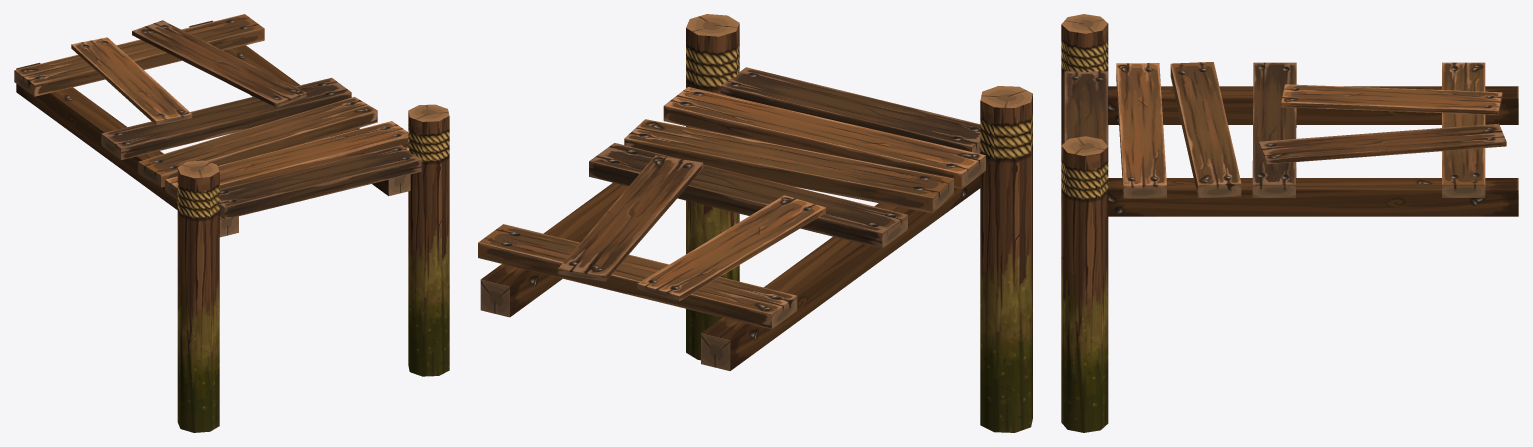
Rendered from pier_middle_B.fbx.
3 renders of one model, left to right at view 1: azimuth 30°, elevation 25°; view 2: azimuth 150°, elevation 25°; view 3: azimuth 270°, elevation 25°, orthographic. The views are drawn at different scales.
Visible parts, largest first — view 1: pier_middle_B; view 2: pier_middle_B; view 3: pier_middle_B.
Boxes of the visible parts, <box> form: pier_middle_B: <box>14,14,449,432</box>; pier_middle_B: <box>478,14,1032,432</box>; pier_middle_B: <box>1061,14,1518,432</box>.
Size of the model in its own units: 232 by 211 by 316.
